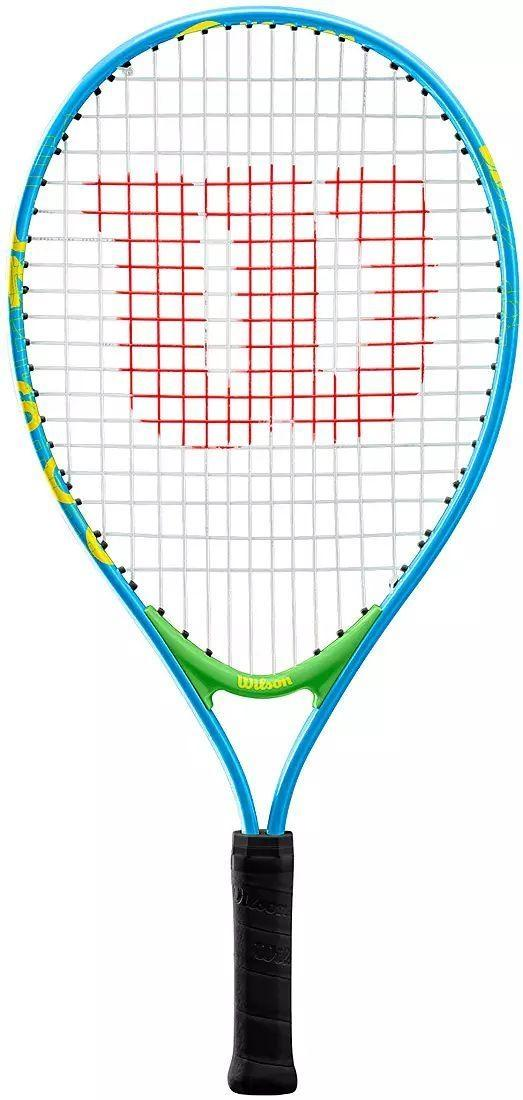Tennis-Racket: (9, 16, 521, 1085)
